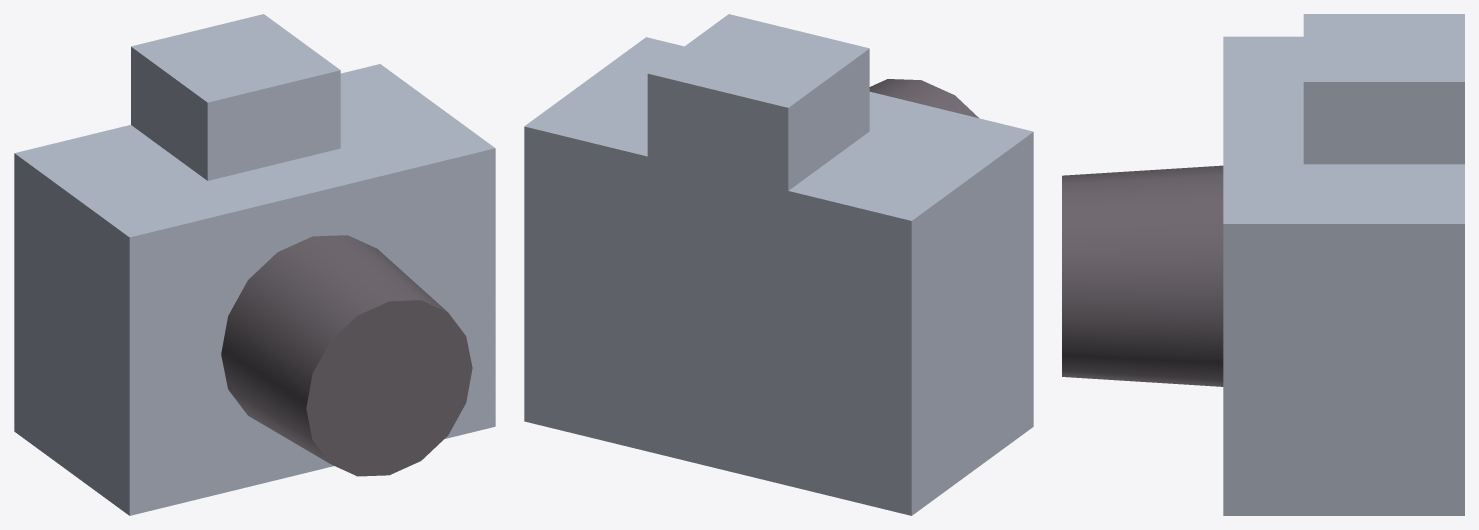
File: toy_camera.glb
3 renders of one model, left to right at view 1: azimuth 30°, elevation 25°; view 2: azimuth 150°, elevation 25°; view 3: azimuth 270°, elevation 25°, orthographic. The views are drawn at different scales.
Parts seen in each view (by area): view 1: Toy Camera; view 2: Toy Camera; view 3: Toy Camera.
Boxes of the visible parts, x1,y1,x2,y2 form: Toy Camera: [14, 14, 495, 515]; Toy Camera: [524, 14, 1033, 515]; Toy Camera: [1062, 14, 1464, 515].
Size of the model in its own units: 0.22 by 0.205 by 0.2.
